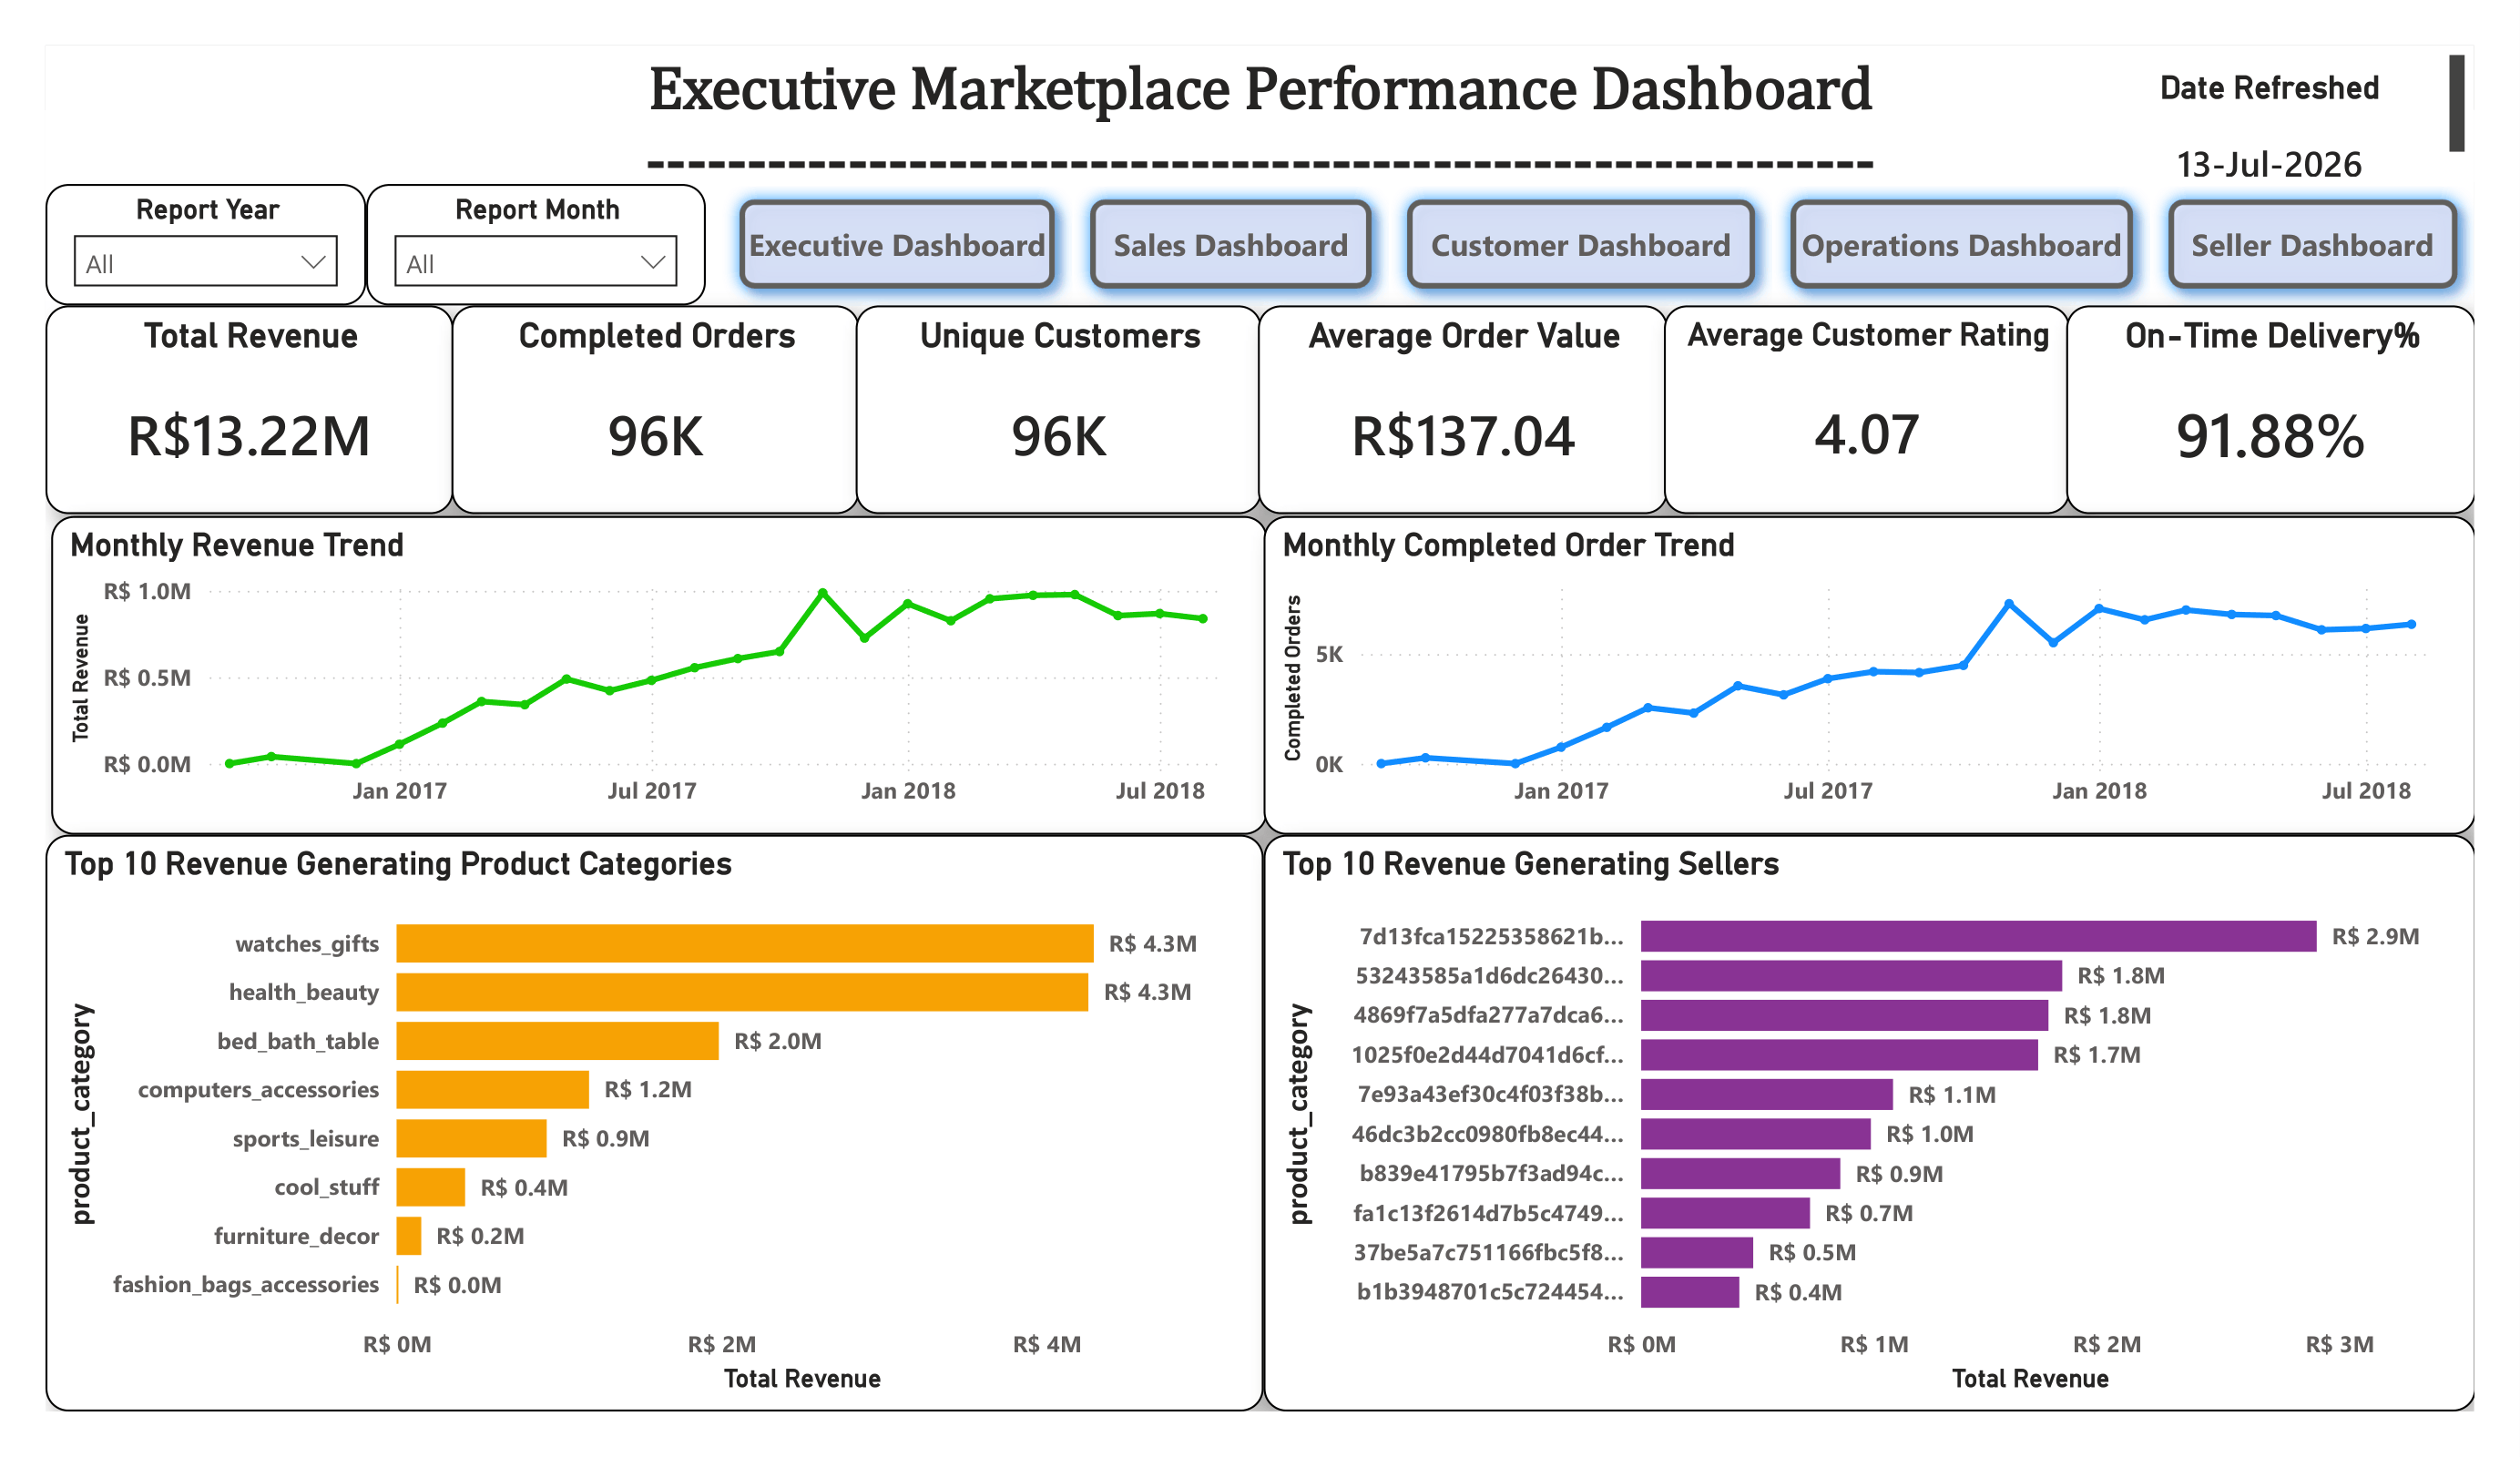

This screenshot's page, from the dashboard's own definition file:
{"tool":"powerbi","page":{"name":"Executive Dashboard","canvas":[1280,720],"ordinal":1},"visuals":[{"type":"textbox","box":[9,0,1271.2,71.7],"z":0},{"type":"cardVisual","title":"Total Revenue","fields":{"Data":["Measures (2).Total Revenue"]},"box":[0,136.8,215.2,110.3],"z":1000},{"type":"cardVisual","title":"Completed Orders","fields":{"Data":["Measures (2).Completed Orders"]},"box":[213.6,136.8,215.2,110.3],"z":2000},{"type":"cardVisual","title":"Unique Customers","fields":{"Data":["Measures (2).Unique Customers"]},"box":[427.2,136.8,213.9,110.3],"z":3000},{"type":"cardVisual","title":"Average Order Value","fields":{"Data":["Measures (2).Average Order Value"]},"box":[639.5,136.8,215.2,110.3],"z":4000},{"type":"cardVisual","title":"Average Customer Rating","fields":{"Data":["Measures (2).Average Customer Rating"]},"box":[853.1,136.8,213.9,110.3],"z":5000},{"type":"cardVisual","title":"On-Time Delivery%","fields":{"Data":["Measures (2).Average On-Time Delivery %"]},"box":[1065.4,136.8,215.2,110.3],"z":6000},{"type":"cardVisual","title":"Date Refreshed","fields":{"Data":["Measures (2).Last Refresh Date"]},"box":[1065.1,12,215.1,82.2],"z":7000},{"type":"lineChart","title":"Monthly Revenue Trend","fields":{"Category":["Executive Scorecard.report_date.Variation.Date Hierarchy.Year","Executive Scorecard.report_date.Variation.Date Hierarchy.Month"],"Y":["Measures (2).Total Revenue"]},"box":[2.7,248.4,641.6,167.4],"z":8000},{"type":"lineChart","title":"Monthly Completed Order Trend","fields":{"Category":["Executive Scorecard.report_date.Variation.Date Hierarchy.Year","Executive Scorecard.report_date.Variation.Date Hierarchy.Month"],"Y":["Measures (2).Completed Orders"]},"box":[641.6,248.4,639,167.4],"z":9000},{"type":"clusteredBarChart","title":"Top 10 Revenue Generating Product Categories","fields":{"Category":["Executive Scorecard.top_product_category"],"Y":["Measures (2).Total Revenue"]},"box":[0,415.8,641.6,304.2],"z":10000},{"type":"clusteredBarChart","title":"Top 10 Revenue Generating Sellers","fields":{"Category":["Executive Scorecard.top_seller"],"Y":["Measures (2).Total Revenue"]},"box":[641.6,415.8,639,304.2],"z":11000},{"type":"slicer","title":"Report Month","fields":{"Values":["Executive Scorecard.report_month"]},"box":[168.8,73.2,179.3,64.2],"z":12000},{"type":"slicer","title":"Report Year","fields":{"Values":["Executive Scorecard.report_year"]},"box":[0,73.2,168.8,64.2],"z":13000},{"type":"actionButton","box":[357,71.7,183.7,65.7],"z":14000},{"type":"actionButton","box":[541.8,71.7,165.8,65.7],"z":15000},{"type":"actionButton","box":[708.7,71.7,201.7,65.7],"z":16000},{"type":"actionButton","box":[911.5,71.7,197.2,65.7],"z":17000},{"type":"actionButton","box":[1109.7,71.7,170.3,65.7],"z":18000}]}

Visuals, with their boxes on the page's 1280x720 design canvas (x1, y1, x2, y2). These are canvas units, not pixel positions in the 2520x1457 screenshot, which may show the page scaled, cropped or inside an application window:
textbox: left=9, top=0, right=1280, bottom=72
"Total Revenue" cardVisual: left=0, top=137, right=215, bottom=247
"Completed Orders" cardVisual: left=214, top=137, right=429, bottom=247
"Unique Customers" cardVisual: left=427, top=137, right=641, bottom=247
"Average Order Value" cardVisual: left=640, top=137, right=855, bottom=247
"Average Customer Rating" cardVisual: left=853, top=137, right=1067, bottom=247
"On-Time Delivery%" cardVisual: left=1065, top=137, right=1281, bottom=247
"Date Refreshed" cardVisual: left=1065, top=12, right=1280, bottom=94
"Monthly Revenue Trend" lineChart: left=3, top=248, right=644, bottom=416
"Monthly Completed Order Trend" lineChart: left=642, top=248, right=1281, bottom=416
"Top 10 Revenue Generating Product Categories" clusteredBarChart: left=0, top=416, right=642, bottom=720
"Top 10 Revenue Generating Sellers" clusteredBarChart: left=642, top=416, right=1281, bottom=720
"Report Month" slicer: left=169, top=73, right=348, bottom=137
"Report Year" slicer: left=0, top=73, right=169, bottom=137
actionButton: left=357, top=72, right=541, bottom=137
actionButton: left=542, top=72, right=708, bottom=137
actionButton: left=709, top=72, right=910, bottom=137
actionButton: left=912, top=72, right=1109, bottom=137
actionButton: left=1110, top=72, right=1280, bottom=137
